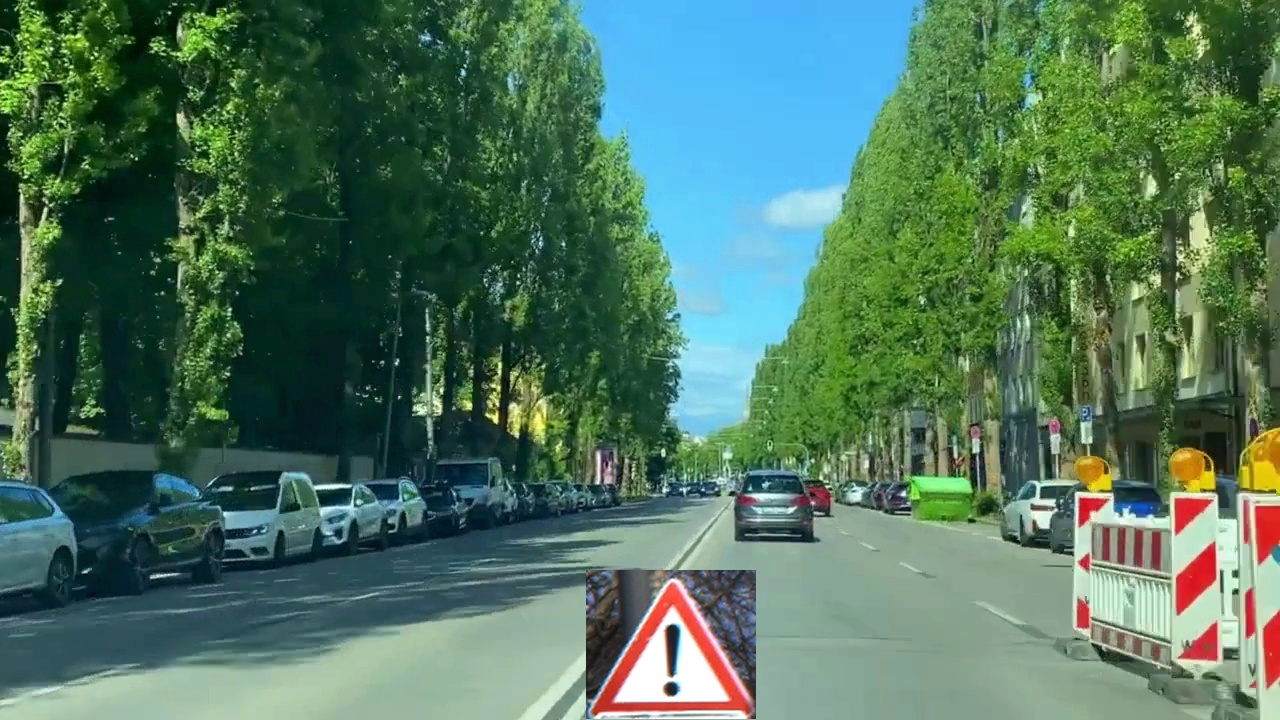Caution: (586, 570, 756, 719)
